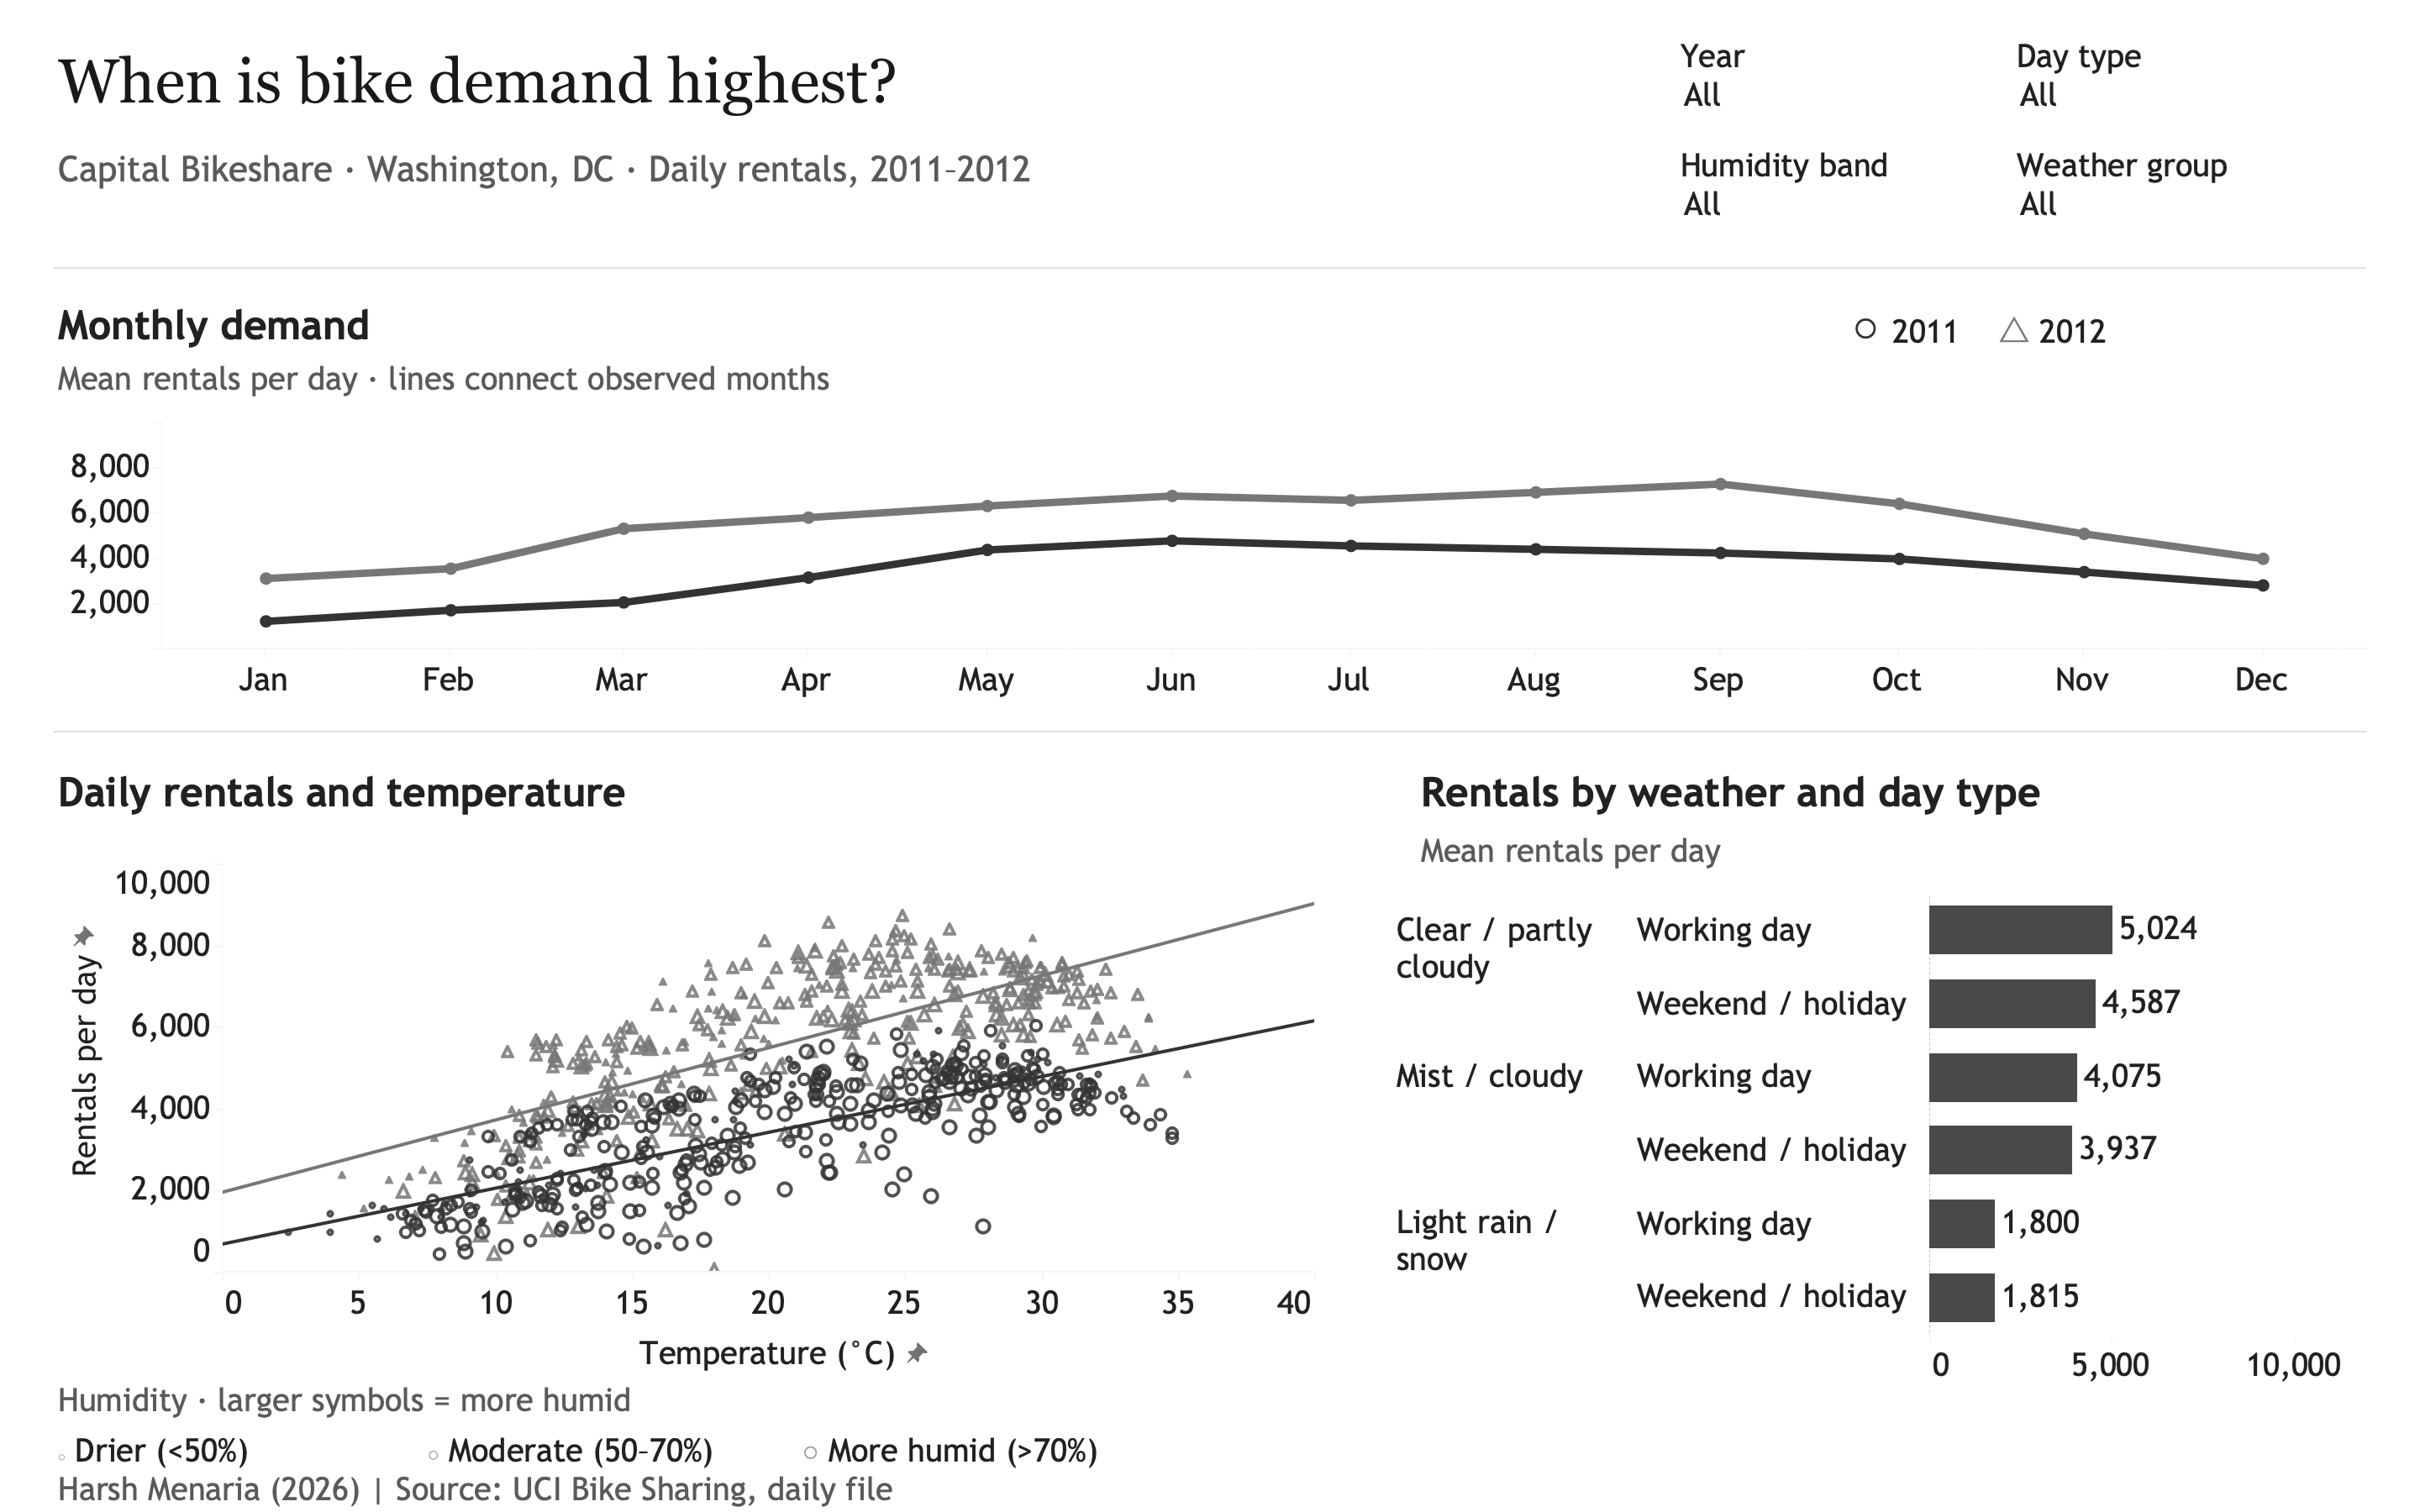

This screenshot's page, from the dashboard's own definition file:
{"tool":"tableau","page":{"name":"Bike demand | Prototype","canvas":[1440,900],"ordinal":0},"visuals":[{"type":"blank","box":[0,0,1440,900]},{"type":"filter","title":"01 Monthly demand","param":"[federated.bike_demand].[none:Year:nk]","box":[1000,21,180,54]},{"type":"filter","title":"01 Monthly demand","param":"[federated.bike_demand].[none:DayType:nk]","box":[1200,21,208,54]},{"type":"text","box":[32,23,925,52]},{"type":"text","box":[32,86,925,30]},{"type":"filter","title":"02 Temperature and rentals","param":"[federated.bike_demand].[none:Calculation_1907443823489024:nk]","box":[1000,86,180,54]},{"type":"filter","title":"01 Monthly demand","param":"[federated.bike_demand].[none:Weather:nk]","box":[1200,86,208,54]},{"type":"blank","box":[32,159,1376,1]},{"type":"text","box":[1100,178,308,34]},{"type":"text","box":[32,179,1376,29]},{"type":"text","box":[32,214,1376,24]},{"type":"worksheet","title":"01 Monthly demand","mark":"Line","rows":["DailyRentals"],"cols":["Calculation_1435546893139968"],"box":[32,251,1376,165]},{"type":"blank","box":[32,435,1376,1]},{"type":"text","box":[32,457,750,29]},{"type":"text","box":[843,457,565,29]},{"type":"text","box":[843,492,565,30]},{"type":"worksheet","title":"02 Temperature and rentals","mark":"Shape","rows":["DailyRentals"],"cols":["TemperatureC"],"box":[32,514,750,310]},{"type":"worksheet","title":"03 Weather and day type","mark":"Bar","rows":["Weather","DayType"],"cols":["DailyRentals"],"box":[825,532,583,292]},{"type":"text","box":[32,819,600,30]},{"type":"text","box":[32,846,216,35]},{"type":"text","box":[252,846,223.2,35]},{"type":"text","box":[475.2,846,302.4,35]},{"type":"text","box":[32,875,1376,23]}]}

Visuals, with their boxes in screenshot pixels (x1, y1, x2, y2), scaled from the page's 1440x900 canvas onto the 2420x1512 screenshot:
blank: region(0, 0, 2419, 1511)
"01 Monthly demand" filter: region(1681, 35, 1983, 126)
"01 Monthly demand" filter: region(2017, 35, 2366, 126)
text: region(54, 39, 1608, 126)
text: region(54, 144, 1608, 195)
"02 Temperature and rentals" filter: region(1681, 144, 1983, 235)
"01 Monthly demand" filter: region(2017, 144, 2366, 235)
blank: region(54, 267, 2366, 269)
text: region(1849, 299, 2366, 356)
text: region(54, 301, 2366, 349)
text: region(54, 360, 2366, 400)
"01 Monthly demand" worksheet (Line marks): region(54, 422, 2366, 699)
blank: region(54, 731, 2366, 732)
text: region(54, 768, 1314, 816)
text: region(1417, 768, 2366, 816)
text: region(1417, 827, 2366, 877)
"02 Temperature and rentals" worksheet (Shape marks): region(54, 864, 1314, 1384)
"03 Weather and day type" worksheet (Bar marks): region(1386, 894, 2366, 1384)
text: region(54, 1376, 1062, 1426)
text: region(54, 1421, 417, 1480)
text: region(423, 1421, 798, 1480)
text: region(798, 1421, 1307, 1480)
text: region(54, 1470, 2366, 1509)
